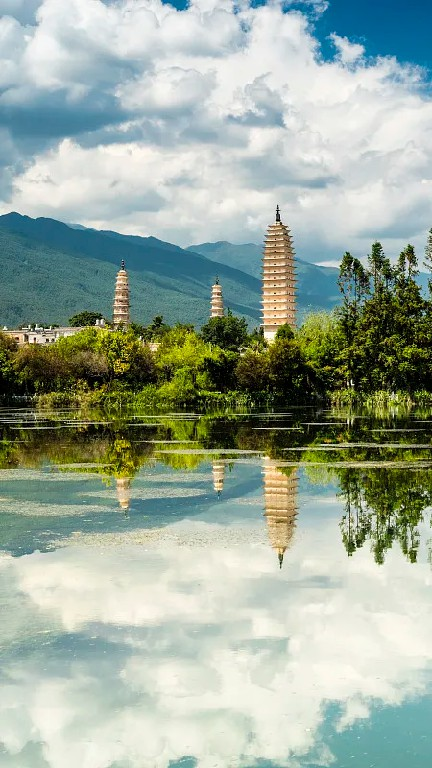ThreePagoda: (259, 204, 299, 342)
